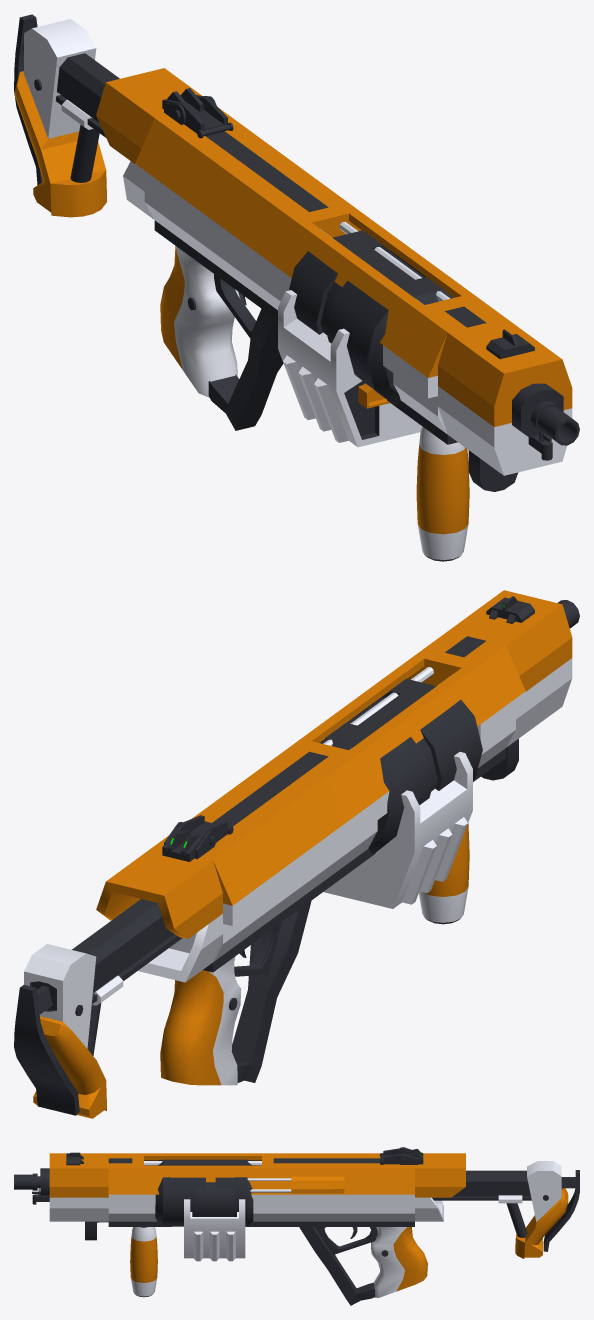
Rendered from rifle1.fbx.
The picture shows the model from 3 angles, top to bottom: view 1: azimuth 30°, elevation 25°; view 2: azimuth 150°, elevation 25°; view 3: azimuth 270°, elevation 25°; orthographic projection. The views are drawn at different scales.
Visible parts, largest first — view 1: mergedBlocks; view 2: mergedBlocks; view 3: mergedBlocks.
Boxes of the visible parts, box(x1,y1,x2,y2) form: mergedBlocks: box(14, 14, 579, 561); mergedBlocks: box(14, 590, 579, 1118); mergedBlocks: box(14, 1147, 579, 1305).
Size of the model in its own units: 7.7 by 14.28 by 48.04.
